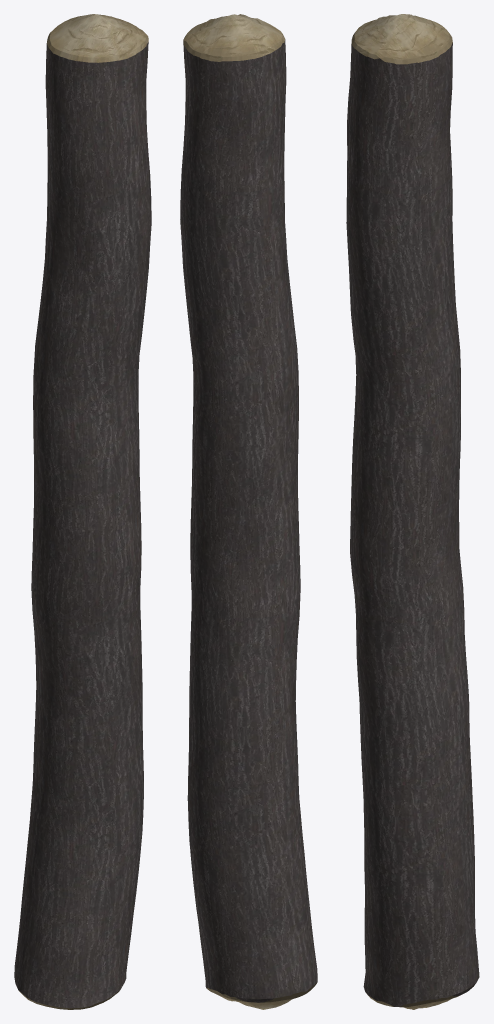
The picture shows the model from 3 angles, left to right: view 1: azimuth 30°, elevation 25°; view 2: azimuth 210°, elevation 25°; view 3: azimuth 270°, elevation 25°; orthographic projection.
Parts seen in each view (by area): view 1: SM_BM_Oak_Tree_01_tree_quarters_top_LOD0; view 2: SM_BM_Oak_Tree_01_tree_quarters_top_LOD0; view 3: SM_BM_Oak_Tree_01_tree_quarters_top_LOD0.
Boxes of the visible parts, bbox=[...] form: SM_BM_Oak_Tree_01_tree_quarters_top_LOD0: bbox=[14, 14, 151, 1009]; SM_BM_Oak_Tree_01_tree_quarters_top_LOD0: bbox=[180, 14, 317, 1009]; SM_BM_Oak_Tree_01_tree_quarters_top_LOD0: bbox=[346, 14, 479, 1009].
Size of the model in its own units: 0.9001 by 7.5 by 0.9024.
1 material, 1 textured.
